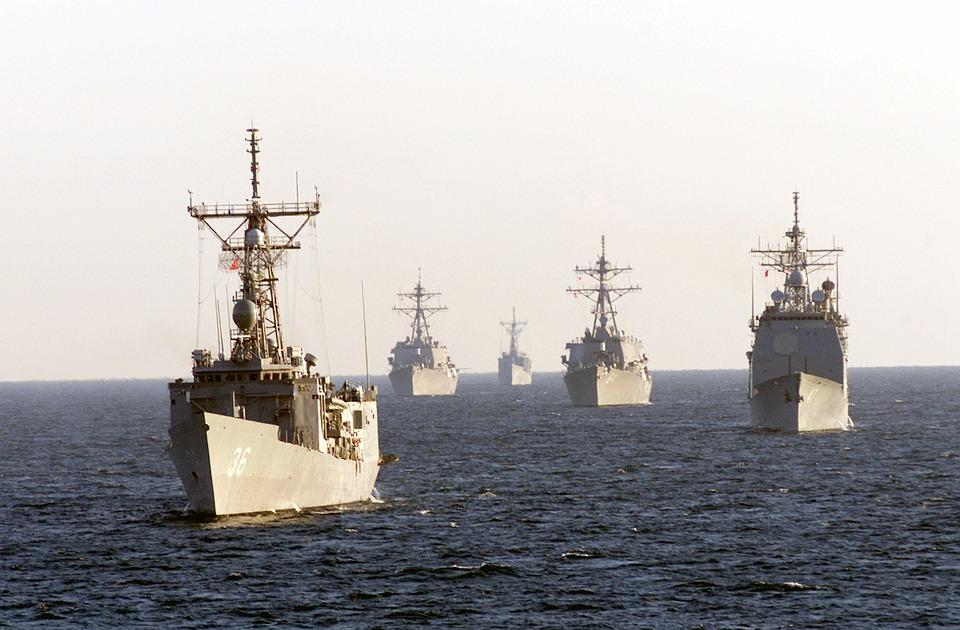MIL_Ship: (159, 177, 392, 516), (741, 195, 862, 430), (558, 234, 656, 406), (385, 271, 466, 398), (493, 300, 540, 391)
